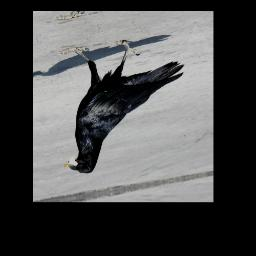Crow: (50, 27, 196, 178)
